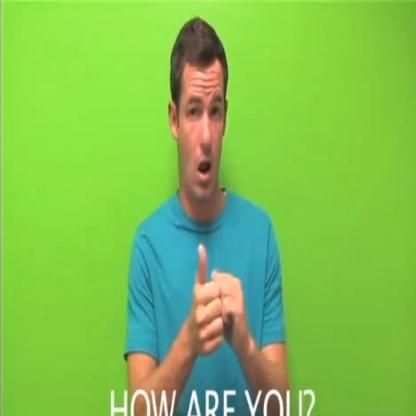HowAreYou: (180, 235, 261, 370)
